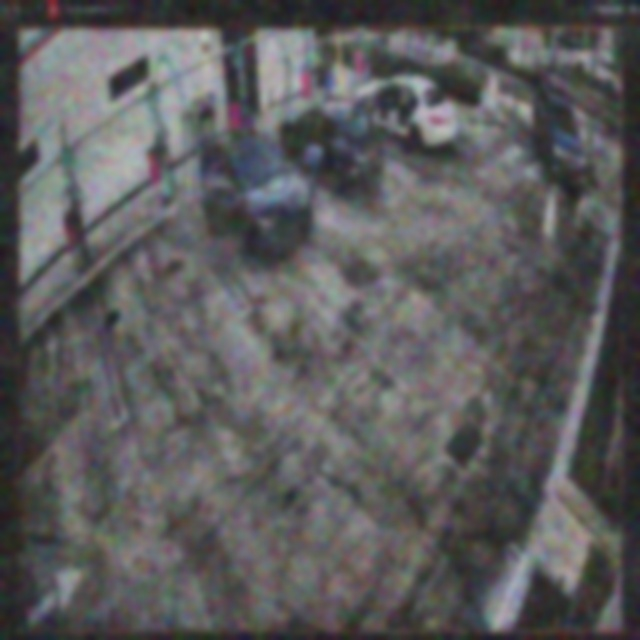Car: (201, 128, 312, 257), (281, 94, 380, 192), (355, 77, 457, 153)
